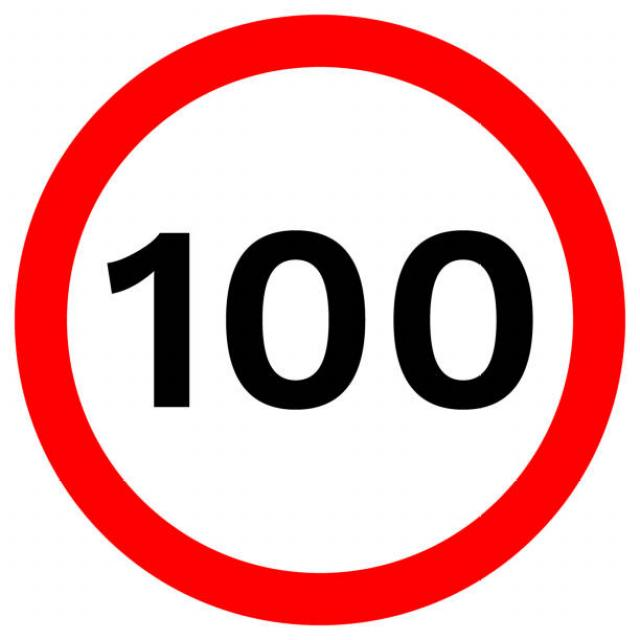speed_limit_100: (12, 14, 624, 626)
